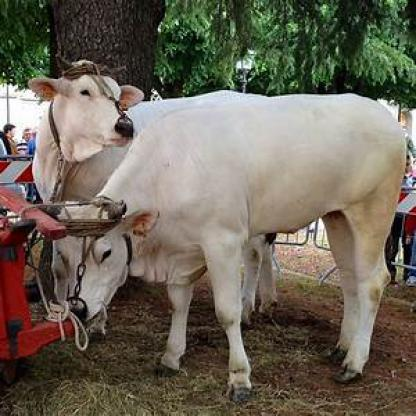cow: (54, 90, 409, 397), (24, 61, 140, 184)
